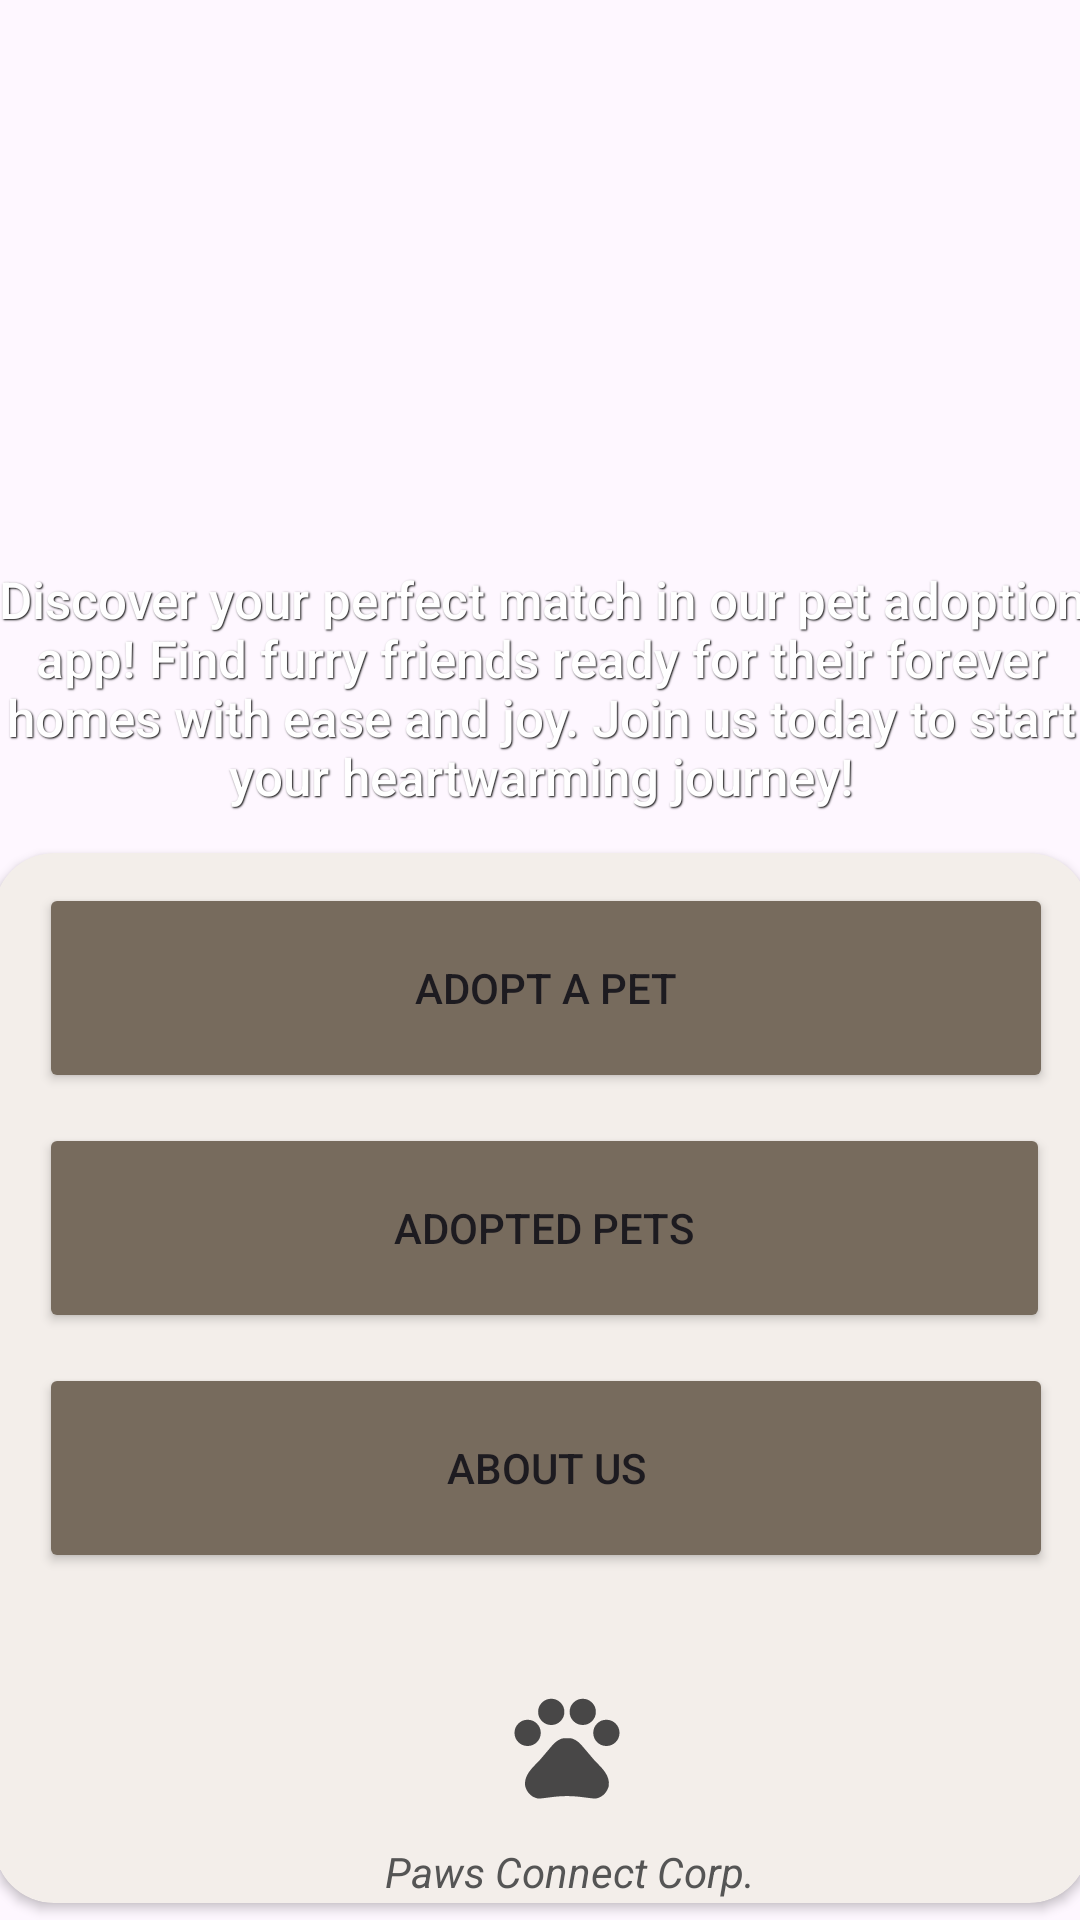

Icons on this 1080 x 1920 Android screen, each with its box as (x1, y1, x2, y2):
pets: (514, 1698, 620, 1799)
